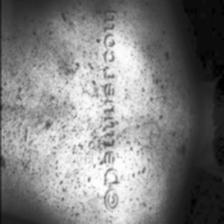Non-Cancerous Skin Condition: (0, 27, 104, 192), (132, 36, 184, 182)
